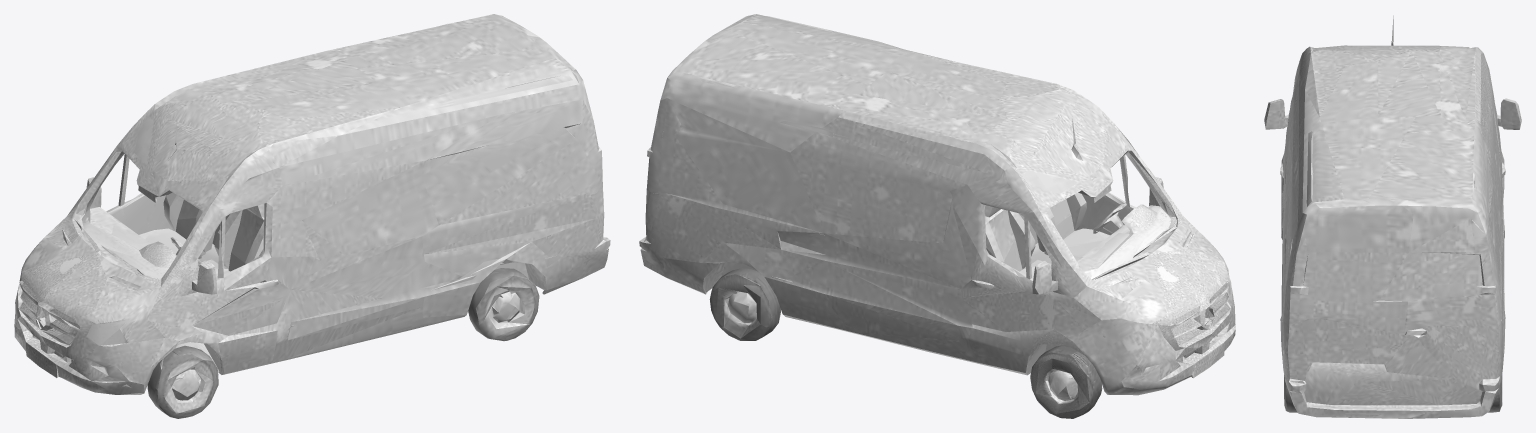
The model's file is car_van.glb.
The picture shows the model from 3 angles, left to right: view 1: azimuth 30°, elevation 25°; view 2: azimuth 150°, elevation 25°; view 3: azimuth 270°, elevation 25°; orthographic projection.
Bounding box in the file's own units: 1.9 × 0.8852 × 0.8008.
Materials: 1 (1 with a texture image).
